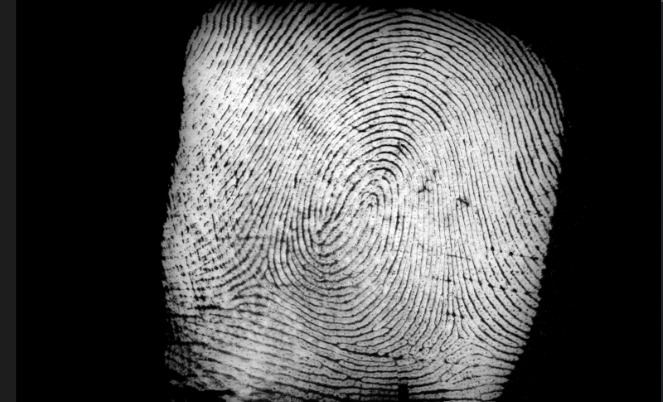nucelo: (354, 190, 382, 228)
verticilo: (436, 322, 487, 353), (241, 256, 283, 292)
